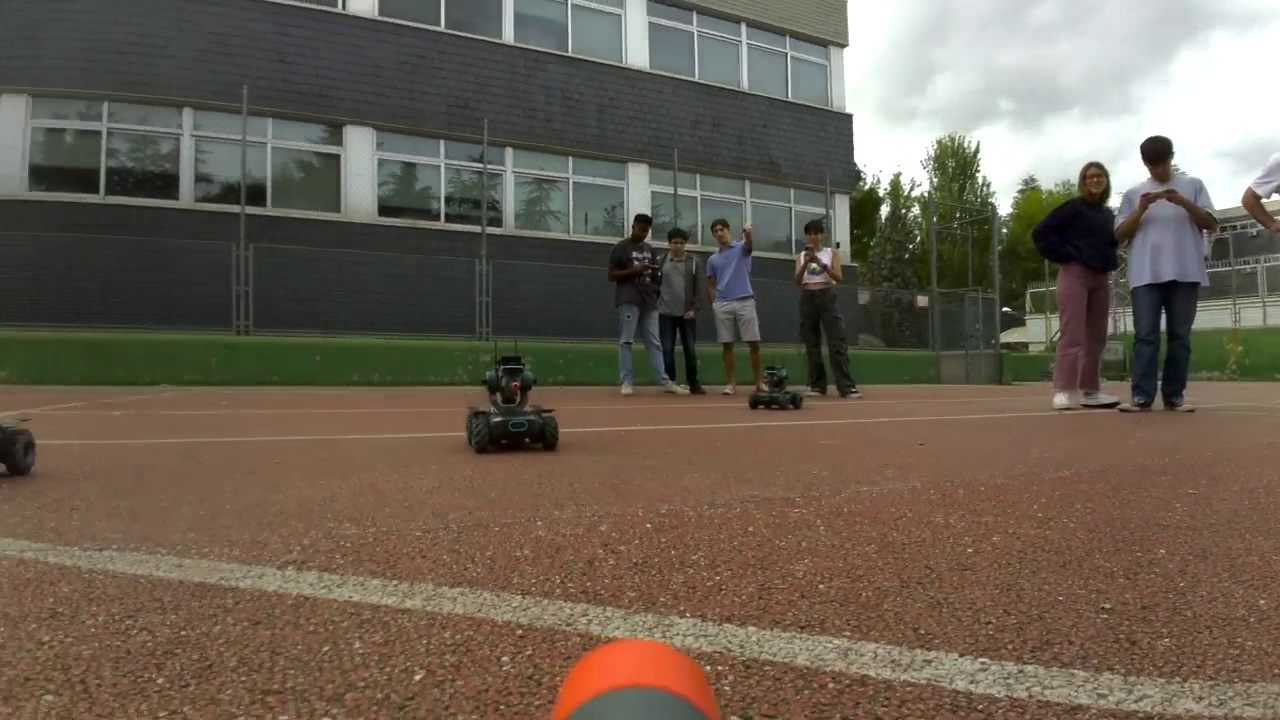robot: (467, 355, 559, 453), (748, 364, 804, 411)
